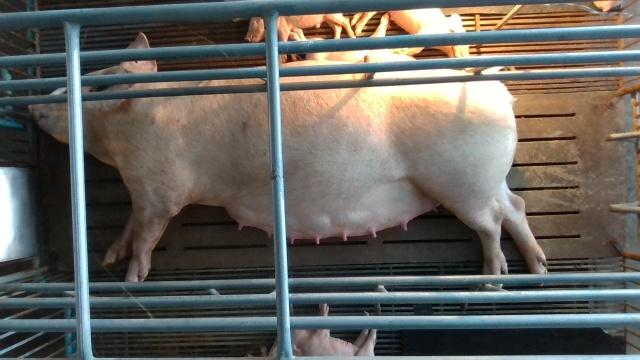piglet: (247, 303, 378, 357), (234, 13, 355, 65), (292, 13, 418, 62), (352, 8, 468, 56)
sow-sleep-lactate: (27, 31, 549, 292)
